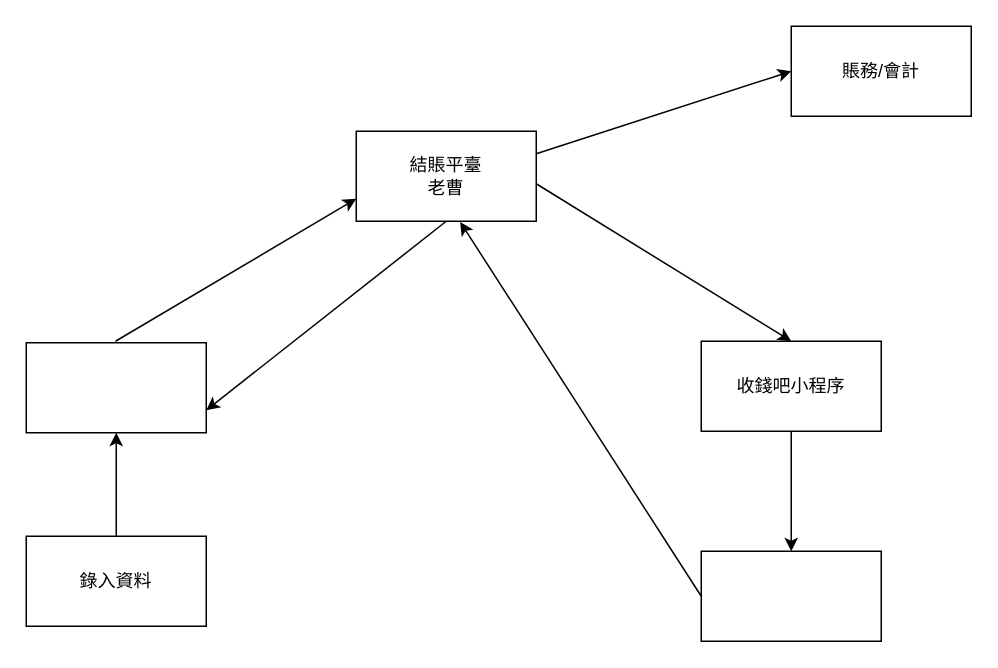
This 998x668 diagram has some shape labels left out. The shapes that lost their labels are listed below. From the top down, each one's box as (x1, y1, x2, y2) in pixels, then its label:
(25, 341, 206, 433): 餐飲服務 三處-鄭州
(700, 550, 881, 641): 收錢吧設備
